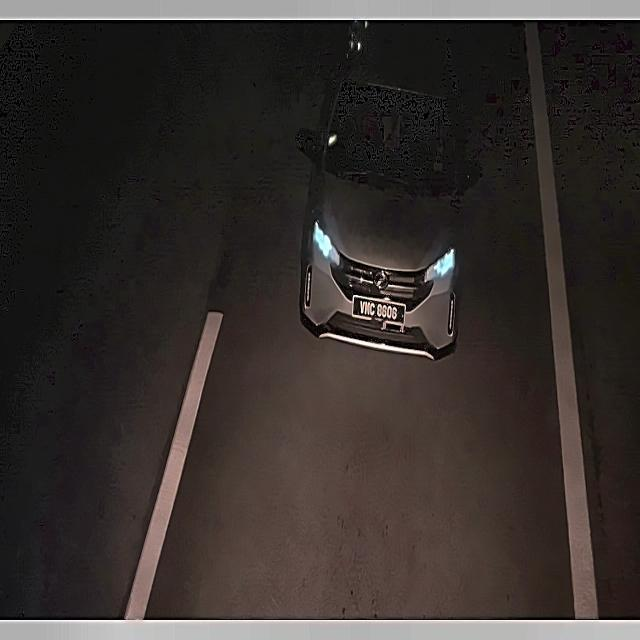car: (351, 289, 411, 337)
